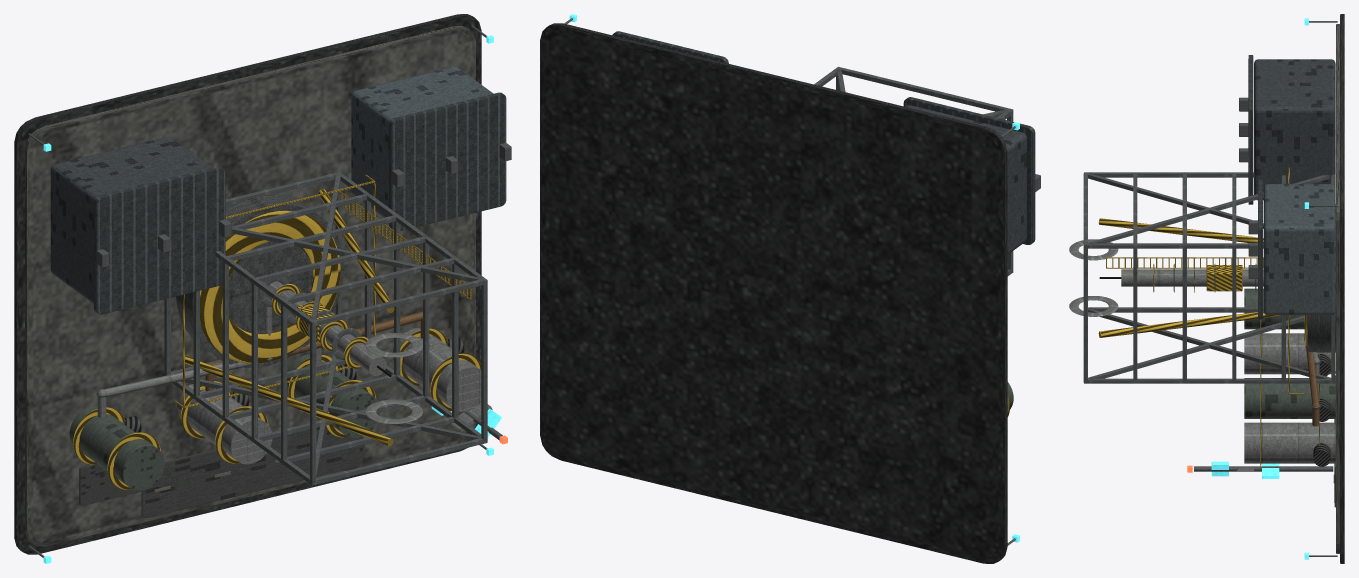
The model's file is b-53-core-drill-lod0.glb.
The picture shows the model from 3 angles, left to right: view 1: azimuth 30°, elevation 25°; view 2: azimuth 150°, elevation 25°; view 3: azimuth 270°, elevation 25°; orthographic projection. The views are drawn at different scales.
Parts seen in each view (by area): view 1: foundation_inner_pad, core_analysis_module_roof, foundation, core_power_module_roof, core_analysis_module_main_hall, core_drill_access_road, core_power_module_main_hall, primary_rotary_table, primary_rotary_table_base, coolant_tank_0_vessel, coolant_tank_3_vessel, coolant_tank_1_vessel (+39 smaller); view 2: foundation, core_analysis_module_main_hall, core_analysis_module_roof, core_drilling_derrick_beam_x_5_n, core_power_module_roof; view 3: core_analysis_module_main_hall, core_power_module_main_hall, coolant_tank_3_vessel, coolant_tank_2_vessel, foundation, coolant_tank_1_vessel, foundation_inner_pad, core_drill_column, core_drilling_derrick_column_e_s, core_drilling_derrick_brace_a_-3.1, core_drilling_derrick_brace_b_-3.1, derrick_crown_brace_-1 (+21 smaller).
Boxes of the visible parts, x1,y1,x2,y2 form: foundation_inner_pad: (25,26,475,546); core_analysis_module_roof: (94,166,225,314); foundation: (14,14,481,554); core_power_module_roof: (389,92,506,230); core_analysis_module_main_hall: (50,136,212,303); core_drill_access_road: (141,427,362,517); core_power_module_main_hall: (351,66,493,217); primary_rotary_table: (200,210,340,363); primary_rotary_table_base: (176,193,343,367); coolant_tank_0_vessel: (69,406,164,490); coolant_tank_3_vessel: (392,328,481,411); coolant_tank_1_vessel: (177,384,272,464); foundation: (540,23,1007,563); core_analysis_module_main_hall: (905,105,1026,254); core_analysis_module_roof: (903,97,1035,244); core_drilling_derrick_beam_x_5_n: (840,67,1013,114); core_power_module_roof: (612,31,728,63); core_analysis_module_main_hall: (1254,59,1335,200); core_power_module_main_hall: (1263,184,1335,314); coolant_tank_3_vessel: (1244,422,1335,463); coolant_tank_2_vessel: (1244,378,1335,418); foundation: (1340,14,1344,563); coolant_tank_1_vessel: (1244,333,1335,374); foundation_inner_pad: (1336,24,1339,553); core_drill_column: (1121,269,1263,286); core_drilling_derrick_column_e_s: (1087,378,1331,383); core_drilling_derrick_brace_a_-3.1: (1088,315,1304,378); core_drilling_derrick_brace_b_-3.1: (1088,309,1331,378); derrick_crown_brace_-1: (1098,311,1286,337).
Size of what is drawn, in the model's own units: 19 by 17 by 11.47.
17 materials, 17 textured.
